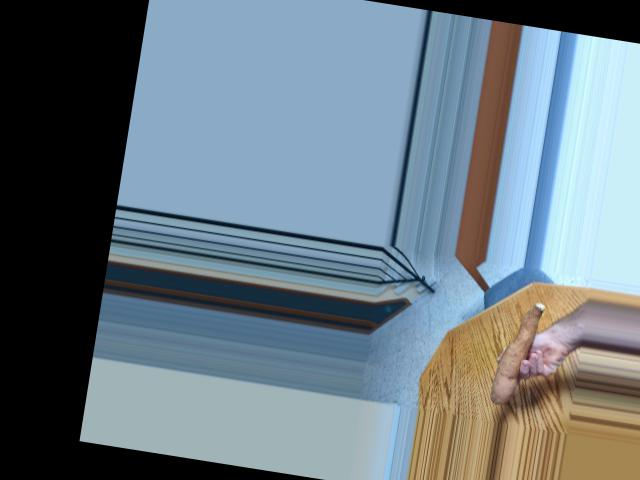sweet_potato: (483, 299, 546, 404)
